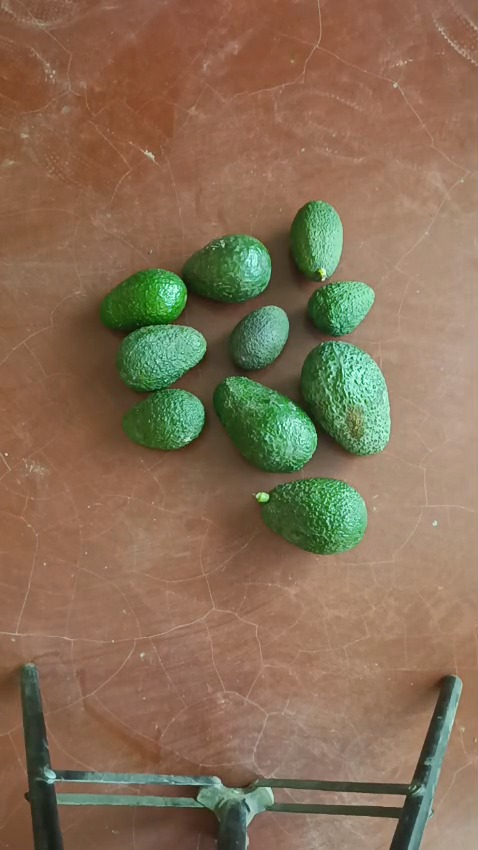Primera: (300, 340, 392, 456), (212, 377, 318, 471), (256, 477, 368, 554)
Segunda: (115, 322, 207, 391), (181, 234, 273, 303), (99, 269, 187, 332), (122, 388, 206, 450)
Tercera: (289, 200, 343, 281), (228, 306, 289, 372), (307, 280, 376, 336)
